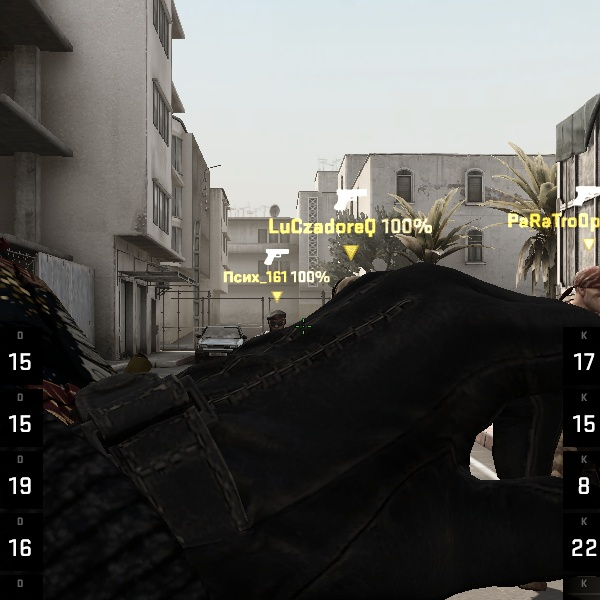t_head: (568, 261, 600, 317), (266, 306, 289, 333)
